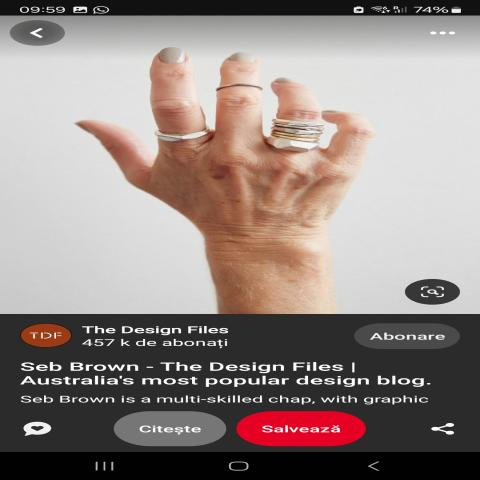hands: (62, 29, 435, 290)
